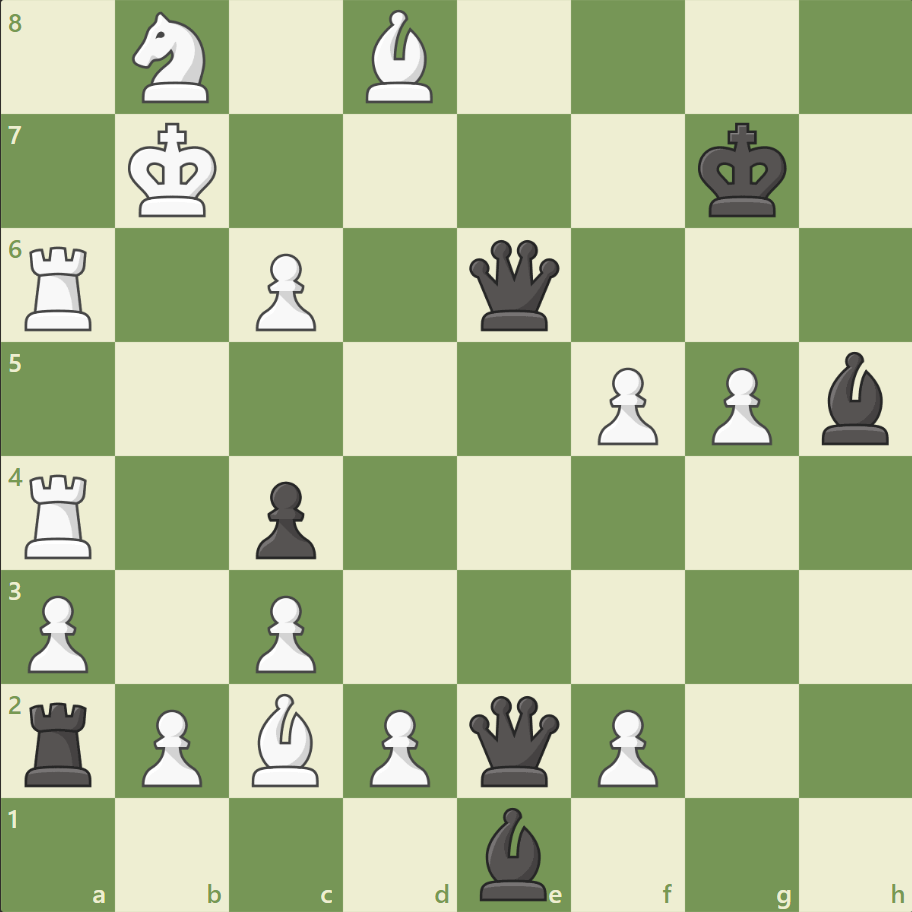B: (358, 6, 442, 109), (244, 687, 328, 790)
K: (124, 117, 224, 225)
N: (124, 7, 222, 110)
P: (247, 246, 322, 337), (701, 359, 776, 450), (20, 586, 95, 677), (247, 586, 322, 677), (133, 700, 208, 791), (588, 359, 662, 450), (361, 700, 435, 791), (588, 700, 662, 791)
R: (19, 239, 102, 336), (19, 466, 102, 563)
b: (471, 801, 555, 904), (812, 347, 896, 449)
k: (692, 117, 792, 225)
p: (247, 473, 322, 564)
q: (464, 236, 563, 335), (464, 690, 563, 789)
r: (19, 693, 102, 790)
